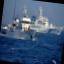fishing boat: (0, 0, 41, 42), (27, 2, 64, 36)
